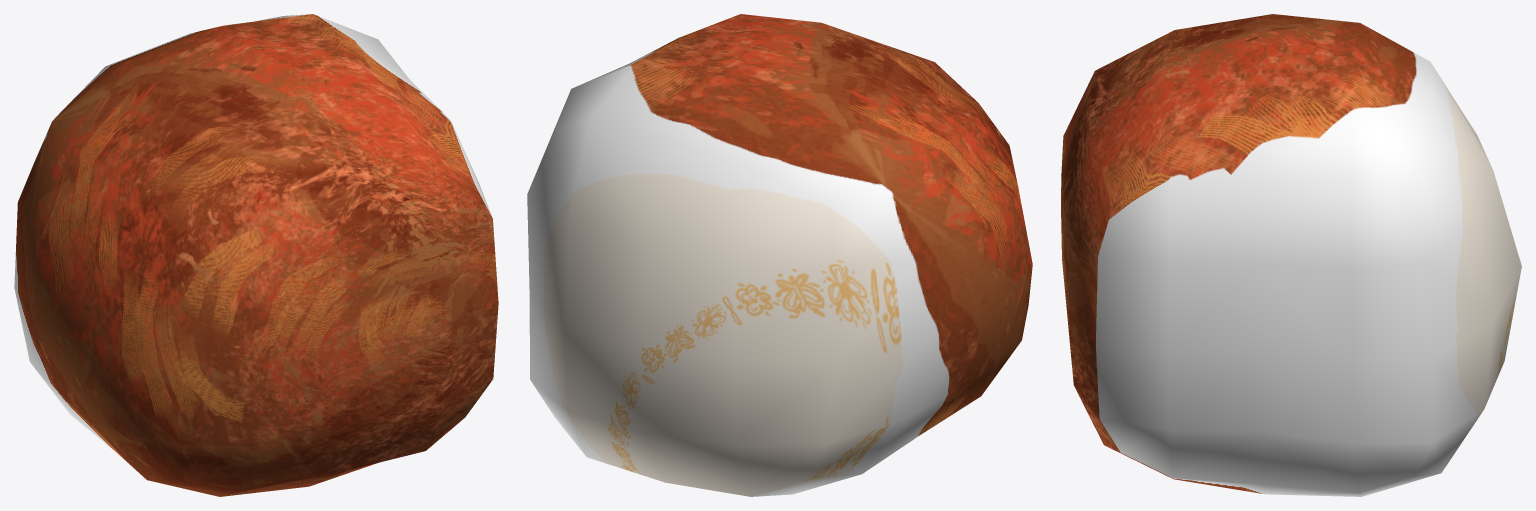
File: meatball.obj
3 renders of one model, left to right at view 1: azimuth 30°, elevation 25°; view 2: azimuth 150°, elevation 25°; view 3: azimuth 270°, elevation 25°, orthographic.
Parts seen in each view (by area): view 1: pCube1; view 2: pCube1; view 3: pCube1.
Part boxes in pixels (box(x1,y1,x2,y2)): pCube1: box(14, 14, 498, 496); pCube1: box(527, 14, 1032, 496); pCube1: box(1061, 14, 1521, 496).
Bounding box in the file's own units: 1.32 × 1.29 × 1.29.
